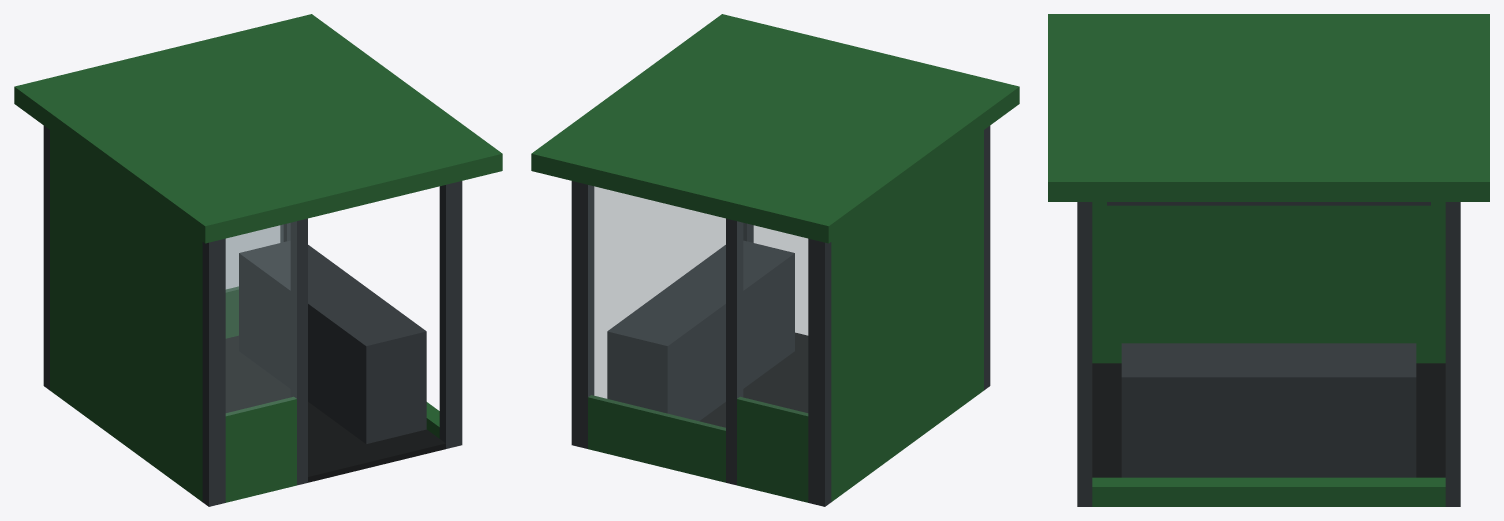
The model's file is combine_harvester_cab.glb.
3 renders of one model, left to right at view 1: azimuth 30°, elevation 25°; view 2: azimuth 150°, elevation 25°; view 3: azimuth 270°, elevation 25°, orthographic. The views are drawn at different scales.
Visible parts, largest first — view 1: body:compound; view 2: body:compound; view 3: body:compound.
Boxes of the visible parts, x1,y1,x2,y2 form: body:compound: (14,14,502,506); body:compound: (531,14,1019,506); body:compound: (1048,14,1489,506).
Bounding box in the file's own units: 1.69 × 1.59 × 1.88.
